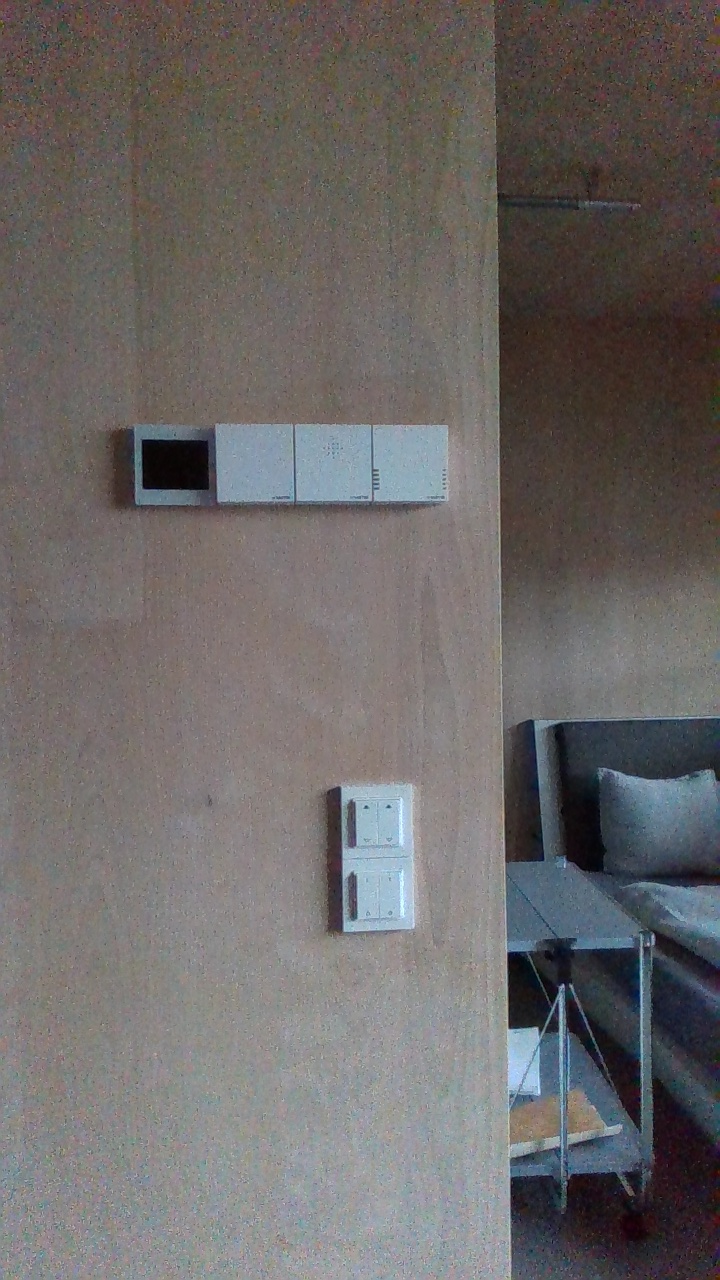Light_Switch: (343, 856, 410, 931), (341, 788, 412, 854)
